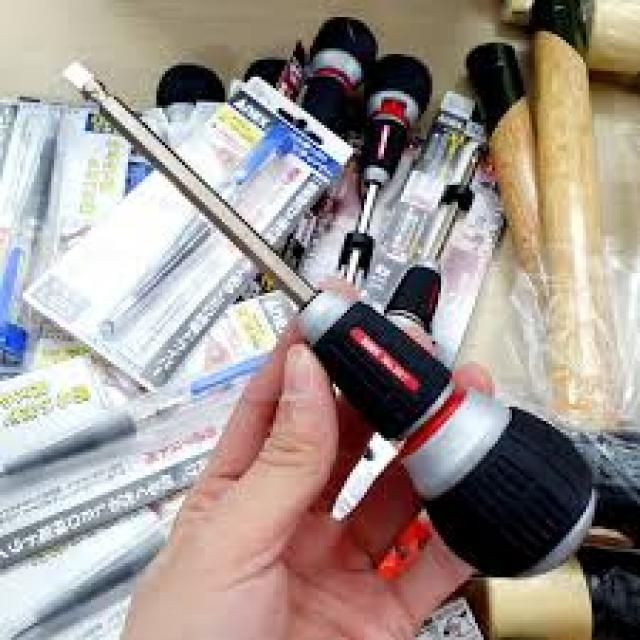screwdriver: (60, 56, 598, 578)
